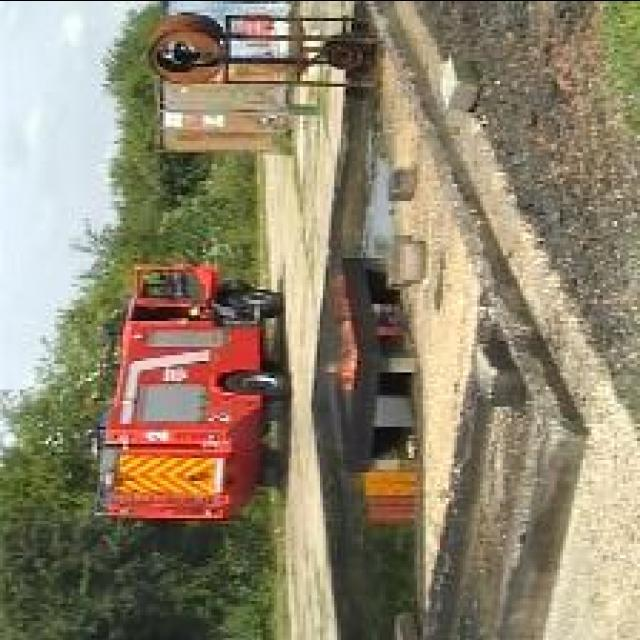Fire: (323, 270, 360, 390)
